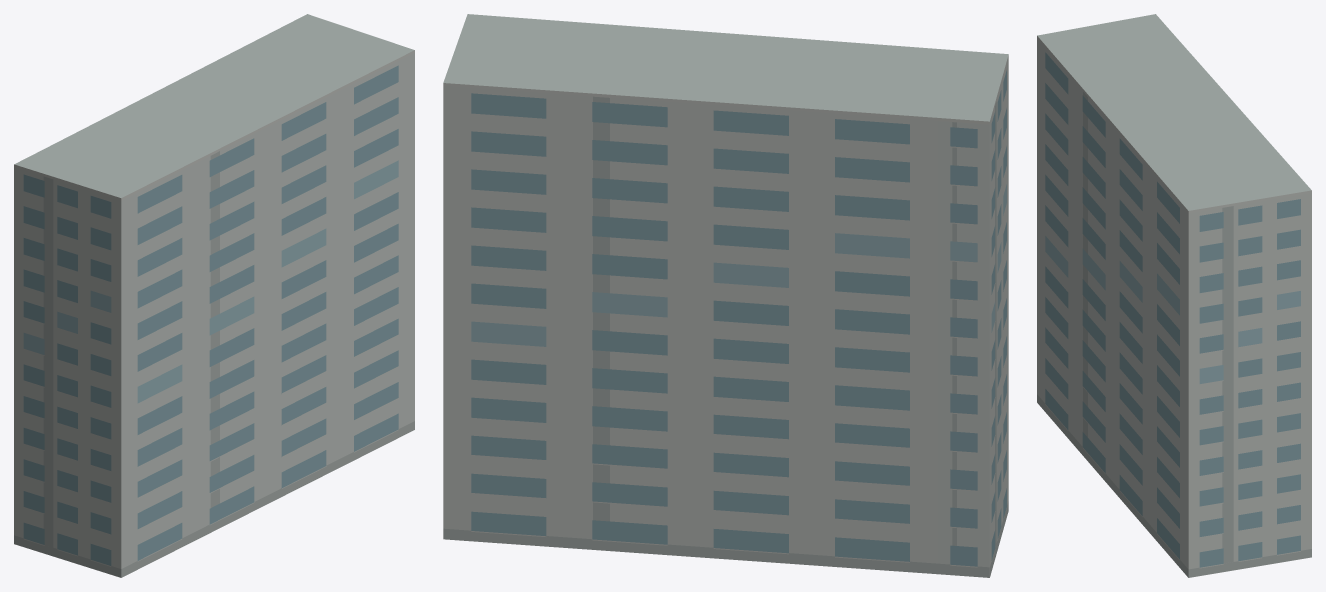
File: residential-4670493a-116a-4db3-a130-9a4f976c8620.glb
3 renders of one model, left to right at view 1: azimuth 30°, elevation 25°; view 2: azimuth 150°, elevation 25°; view 3: azimuth 270°, elevation 25°, orthographic. The views are drawn at different scales.
Visible parts, largest first — view 1: residential-4670493a-116a-4db3-a130-9a4f976c8620.tmp; view 2: residential-4670493a-116a-4db3-a130-9a4f976c8620.tmp; view 3: residential-4670493a-116a-4db3-a130-9a4f976c8620.tmp.
Boxes of the visible parts, box(x1,y1,x2,y2) form: residential-4670493a-116a-4db3-a130-9a4f976c8620.tmp: box(14, 14, 414, 577); residential-4670493a-116a-4db3-a130-9a4f976c8620.tmp: box(443, 14, 1008, 577); residential-4670493a-116a-4db3-a130-9a4f976c8620.tmp: box(1037, 14, 1311, 577).
Bounding box in the file's own units: 40.29 × 35 × 23.77.
